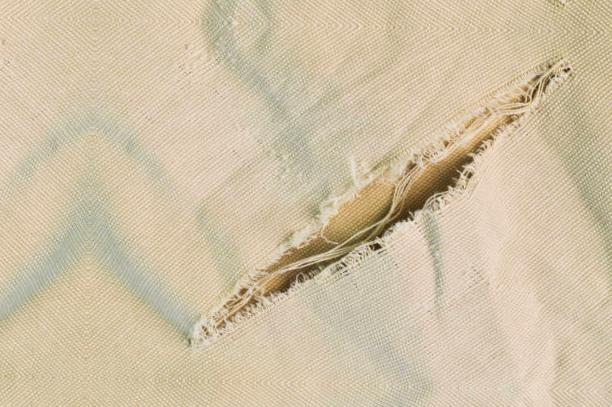hole: (179, 53, 576, 363)
